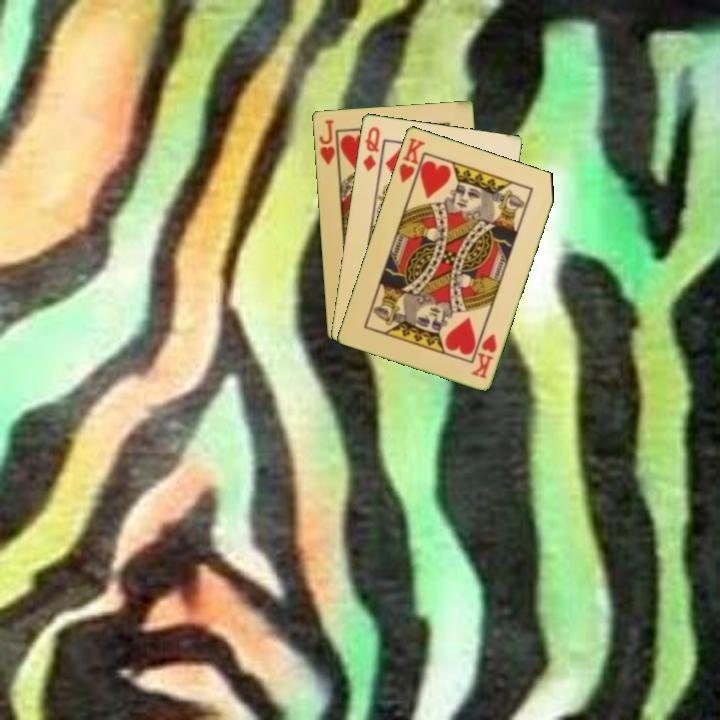Jh: (315, 116, 341, 171)
Kh: (395, 134, 428, 191), (468, 330, 499, 381)
Qd: (359, 123, 382, 174)
